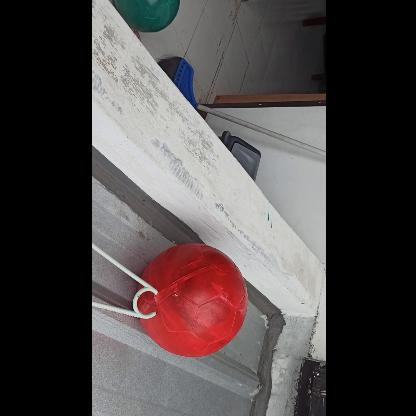red_ball: (136, 244, 250, 358)
